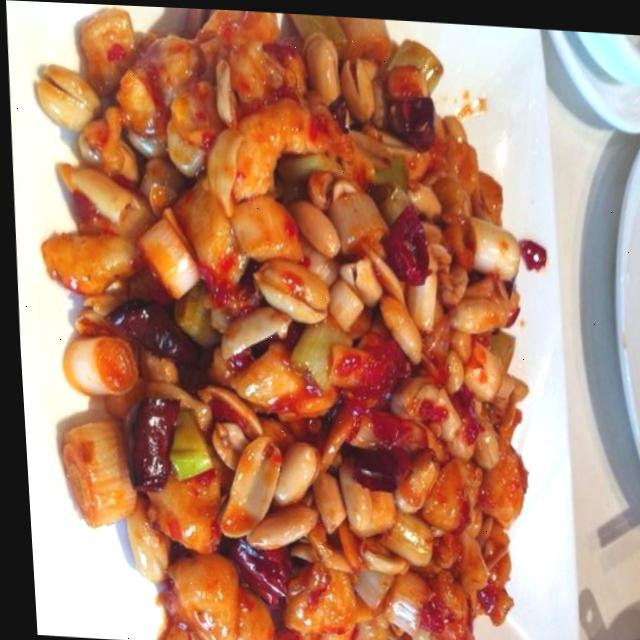鸡肉料理 含炸鸡: (0, 7, 606, 640)
